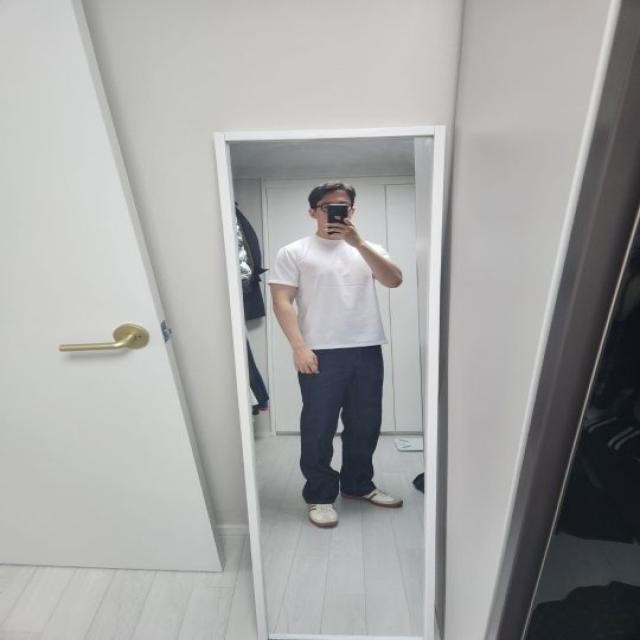denimpants: (295, 344, 383, 504)
shortsleeve: (273, 229, 397, 352)
